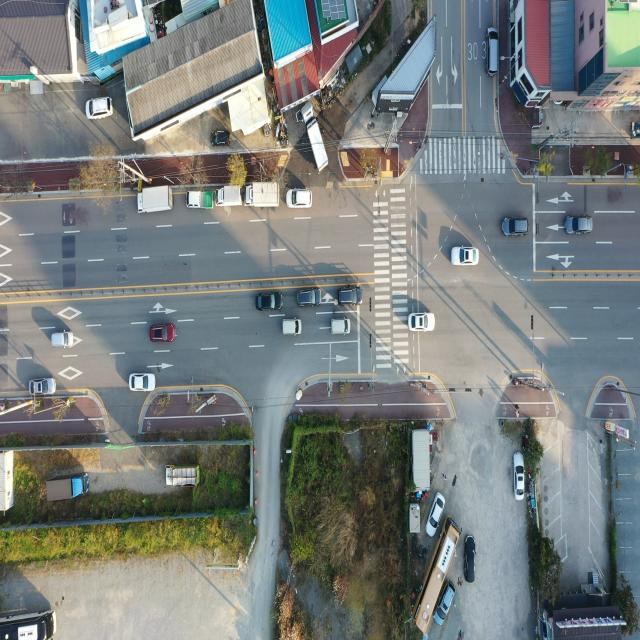car: (434, 580, 456, 628), (427, 493, 444, 537), (294, 284, 322, 310), (87, 96, 116, 120), (463, 530, 476, 580), (451, 246, 479, 266), (288, 188, 313, 210), (515, 452, 526, 500), (503, 217, 529, 237), (408, 312, 434, 332), (566, 215, 592, 235), (129, 374, 156, 393), (152, 325, 177, 345), (258, 293, 283, 313), (487, 26, 497, 76), (30, 377, 55, 396), (338, 286, 362, 305), (213, 128, 232, 150), (53, 332, 75, 350), (281, 318, 301, 336), (332, 318, 351, 335)
large_bus: (412, 516, 462, 640), (0, 605, 57, 640)
medium_truck: (45, 470, 90, 509), (302, 115, 328, 173), (138, 183, 176, 214), (246, 180, 280, 210)
small_truck: (165, 463, 202, 488), (215, 182, 241, 205), (186, 190, 214, 209)
